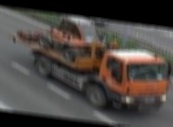truck: (3, 9, 173, 117)
